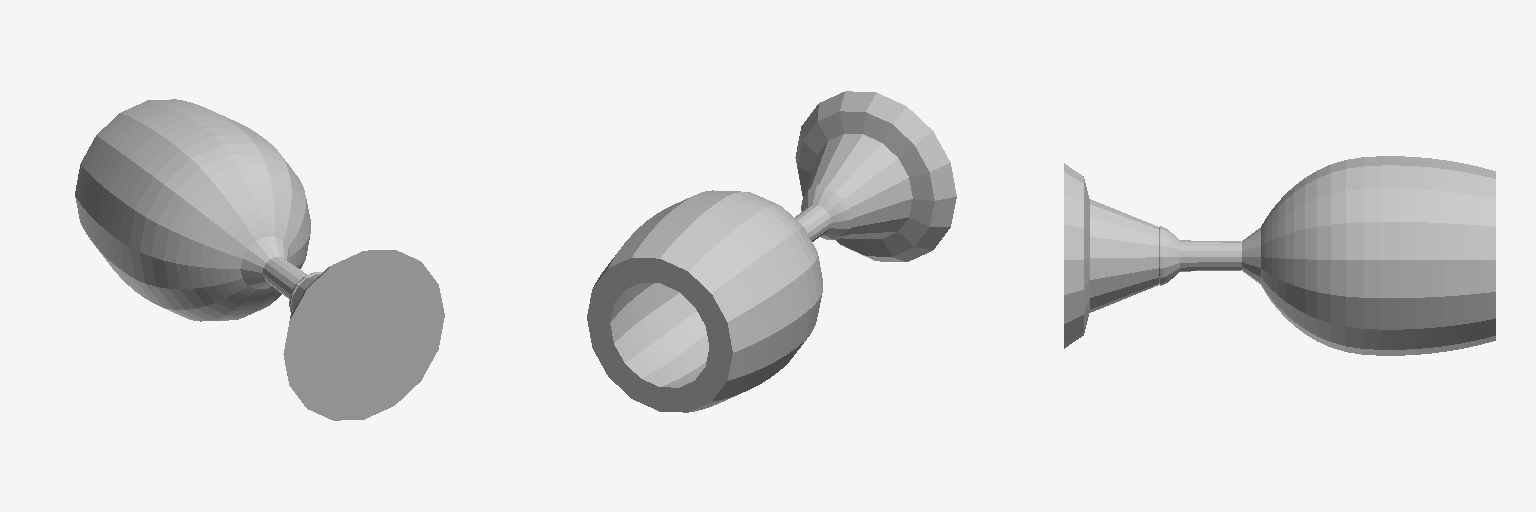
Rendered from Goblet.obj.
3 views of the same model, side by side, from view 1: azimuth 30°, elevation 25°; view 2: azimuth 150°, elevation 25°; view 3: azimuth 270°, elevation 25° (orthographic).
Visible parts, largest first — view 1: Curve_Curve.003; view 2: Curve_Curve.003; view 3: Curve_Curve.003.
Part boxes in pixels (x1,y1,x2,y2): Curve_Curve.003: (75, 99, 444, 420); Curve_Curve.003: (587, 91, 956, 412); Curve_Curve.003: (1064, 156, 1495, 355).
Bounding box in the file's own units: 0.0897 × 0.0897 × 0.1941.